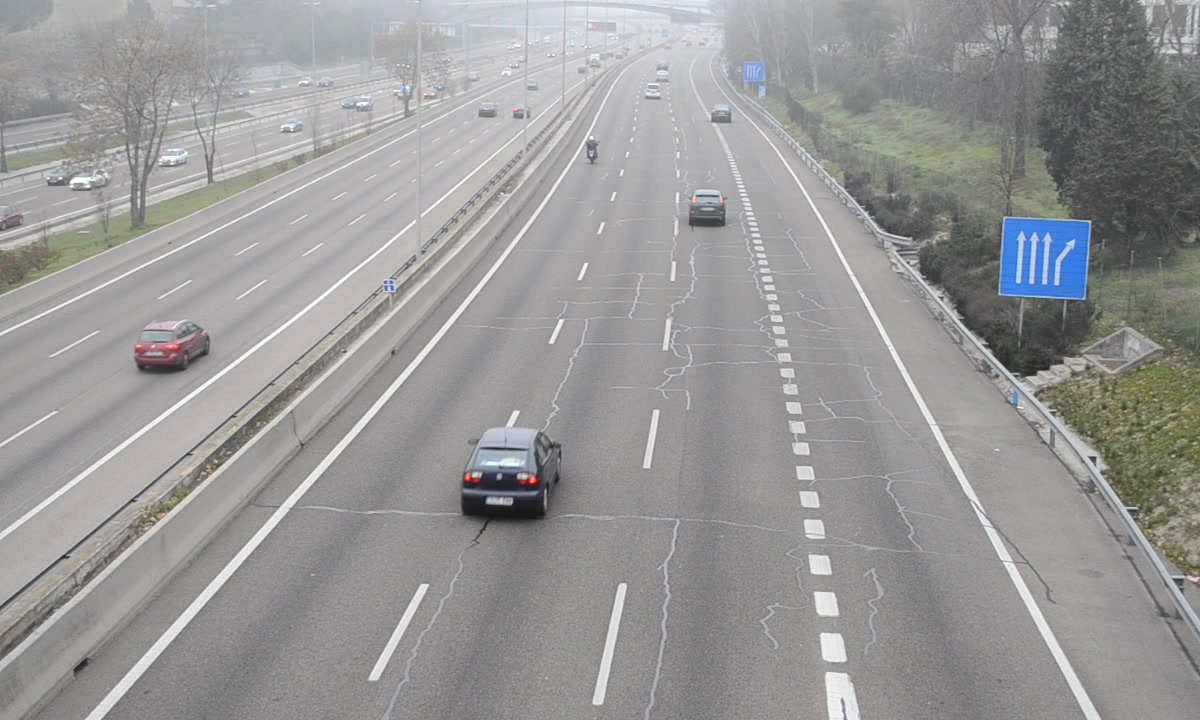car: (460, 427, 564, 517), (687, 190, 725, 226), (710, 105, 732, 123)
motorcycle: (584, 136, 598, 169)
